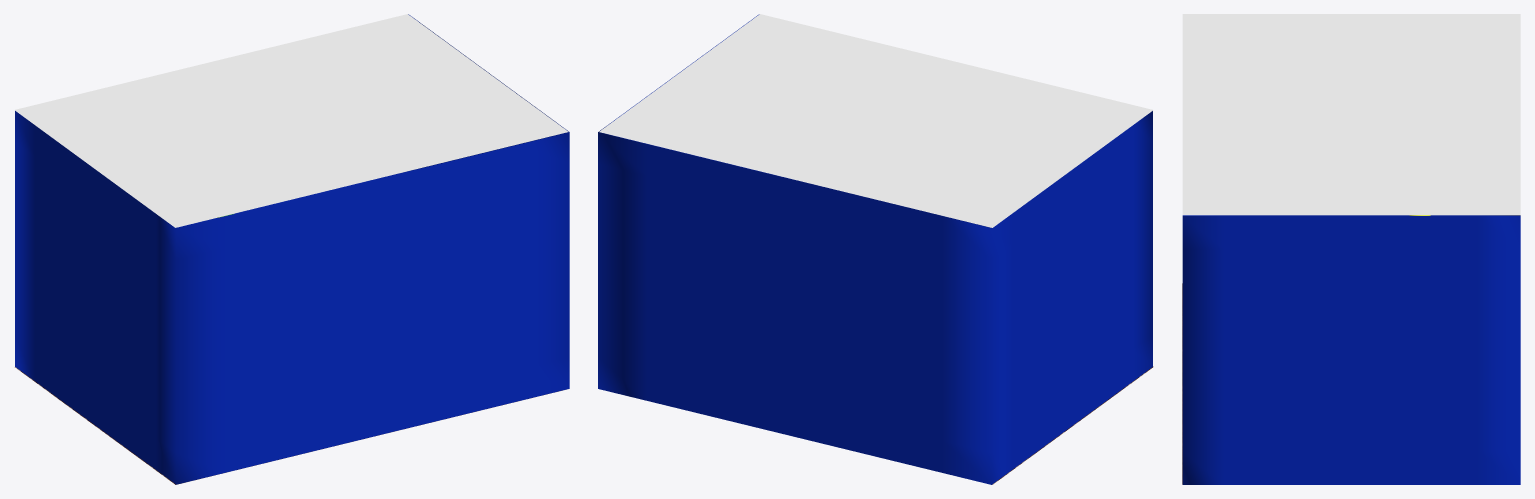
3 views of the same model, side by side, from view 1: azimuth 30°, elevation 25°; view 2: azimuth 150°, elevation 25°; view 3: azimuth 270°, elevation 25° (orthographic). The views are drawn at different scales.
Visible parts, largest first — view 1: Murs, Plafond; view 2: Murs, Plafond; view 3: Murs, Plafond.
Part boxes in pixels (left/top/right/bottom): Murs: left=15, top=14, right=569, bottom=484; Plafond: left=14, top=14, right=568, bottom=227; Murs: left=598, top=14, right=1152, bottom=484; Plafond: left=599, top=14, right=1153, bottom=227; Murs: left=1182, top=215, right=1520, bottom=484; Plafond: left=1182, top=14, right=1520, bottom=215.
Size of the model in its own units: 14.68 by 9.15 by 10.41.
7 materials, 2 textured.
